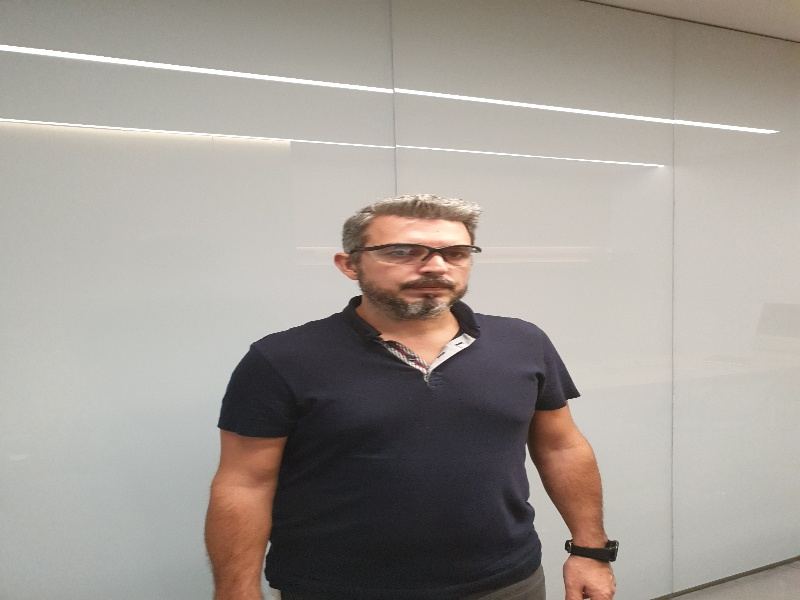Gozluk: (356, 243, 482, 266)
